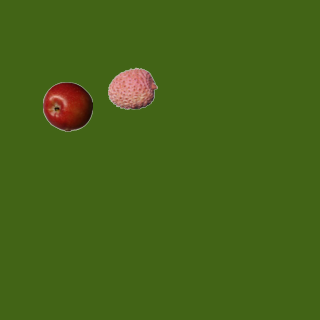Apple Braeburn: (42, 81, 92, 131)
Lychee: (107, 63, 157, 113)
